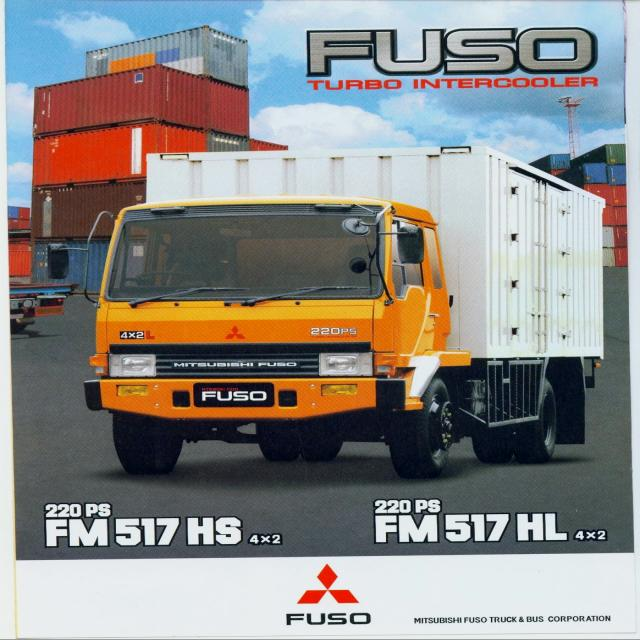truck: (51, 149, 607, 479)
